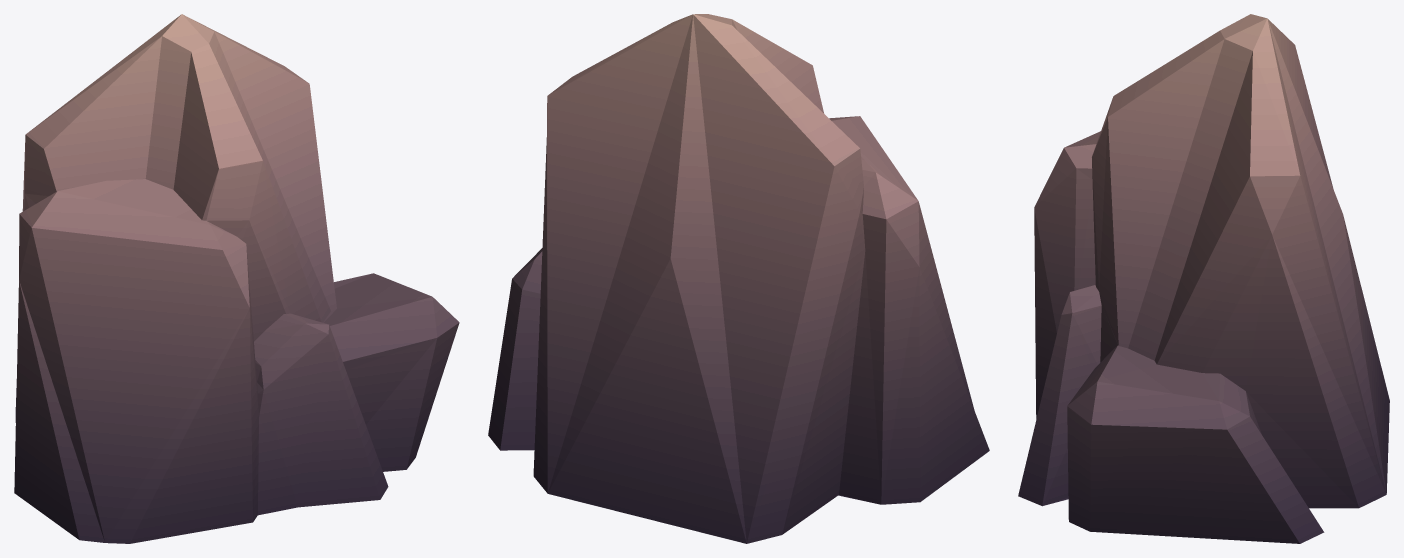
The model's file is rock1.fbx.
The picture shows the model from 3 angles, left to right: view 1: azimuth 30°, elevation 25°; view 2: azimuth 150°, elevation 25°; view 3: azimuth 270°, elevation 25°; orthographic projection. The views are drawn at different scales.
Visible parts, largest first — view 1: rock.002; view 2: rock.002; view 3: rock.002.
Part boxes in pixels (left/top/right/bottom): rock.002: left=14, top=14, right=459, bottom=543; rock.002: left=488, top=14, right=989, bottom=543; rock.002: left=1018, top=14, right=1389, bottom=543.
Size of the model in its own units: 2.79 by 2.92 by 2.25.
